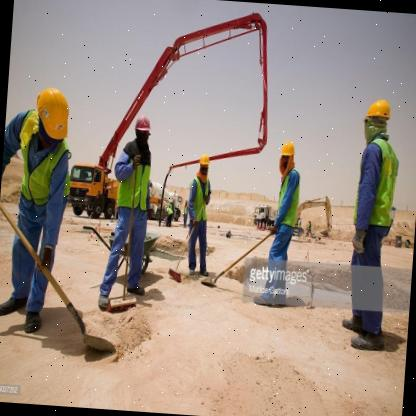capacete: (30, 86, 73, 152), (364, 94, 394, 122), (131, 111, 155, 134), (280, 136, 298, 158), (197, 150, 214, 167)
